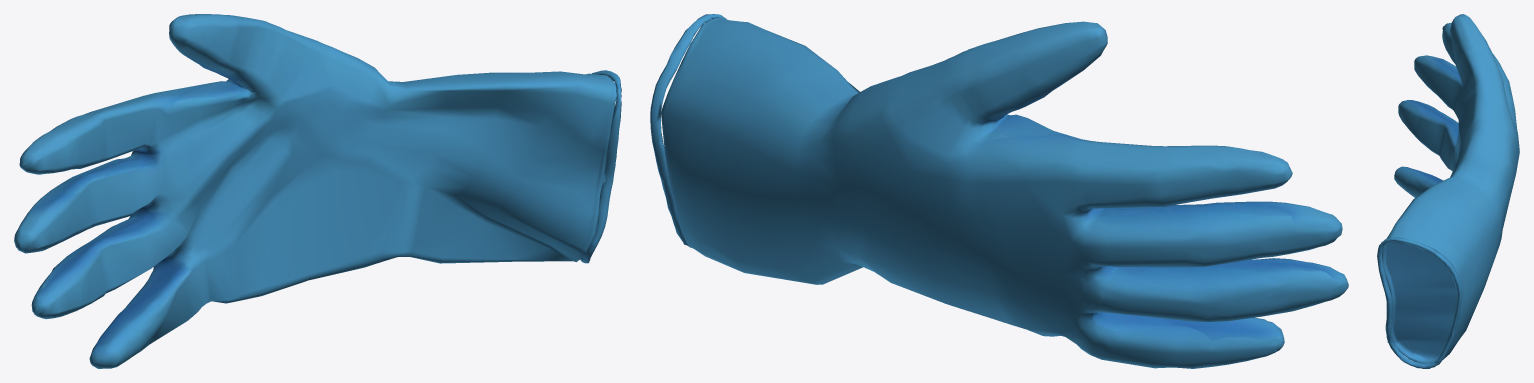
3 renders of one model, left to right at view 1: azimuth 30°, elevation 25°; view 2: azimuth 150°, elevation 25°; view 3: azimuth 270°, elevation 25°, orthographic. The views are drawn at different scales.
Visible parts, largest first — view 1: tripo_node_d55086c5-5fb5-403c-a321-fa11ccfbe057; view 2: tripo_node_d55086c5-5fb5-403c-a321-fa11ccfbe057; view 3: tripo_node_d55086c5-5fb5-403c-a321-fa11ccfbe057.
Part boxes in pixels (x1,y1,x2,y2): tripo_node_d55086c5-5fb5-403c-a321-fa11ccfbe057: (14, 14, 621, 368); tripo_node_d55086c5-5fb5-403c-a321-fa11ccfbe057: (650, 14, 1348, 368); tripo_node_d55086c5-5fb5-403c-a321-fa11ccfbe057: (1377, 14, 1519, 368).
Bounding box in the file's own units: 0.998 × 0.502 × 0.291.
1 material, 1 textured.
